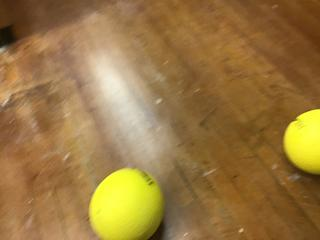power_cell: (81, 165, 166, 240)
